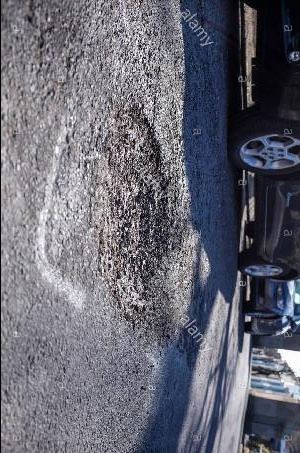pothole: (88, 97, 176, 348)
